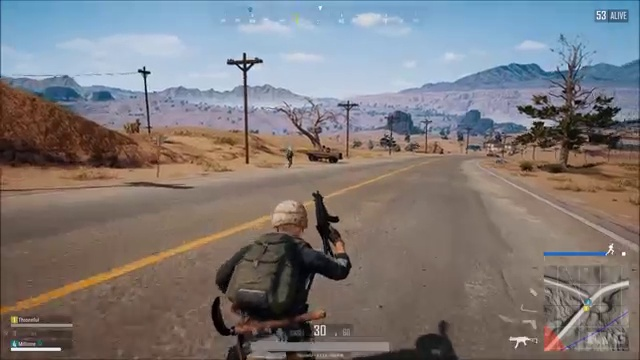Player: (181, 187, 387, 316)
